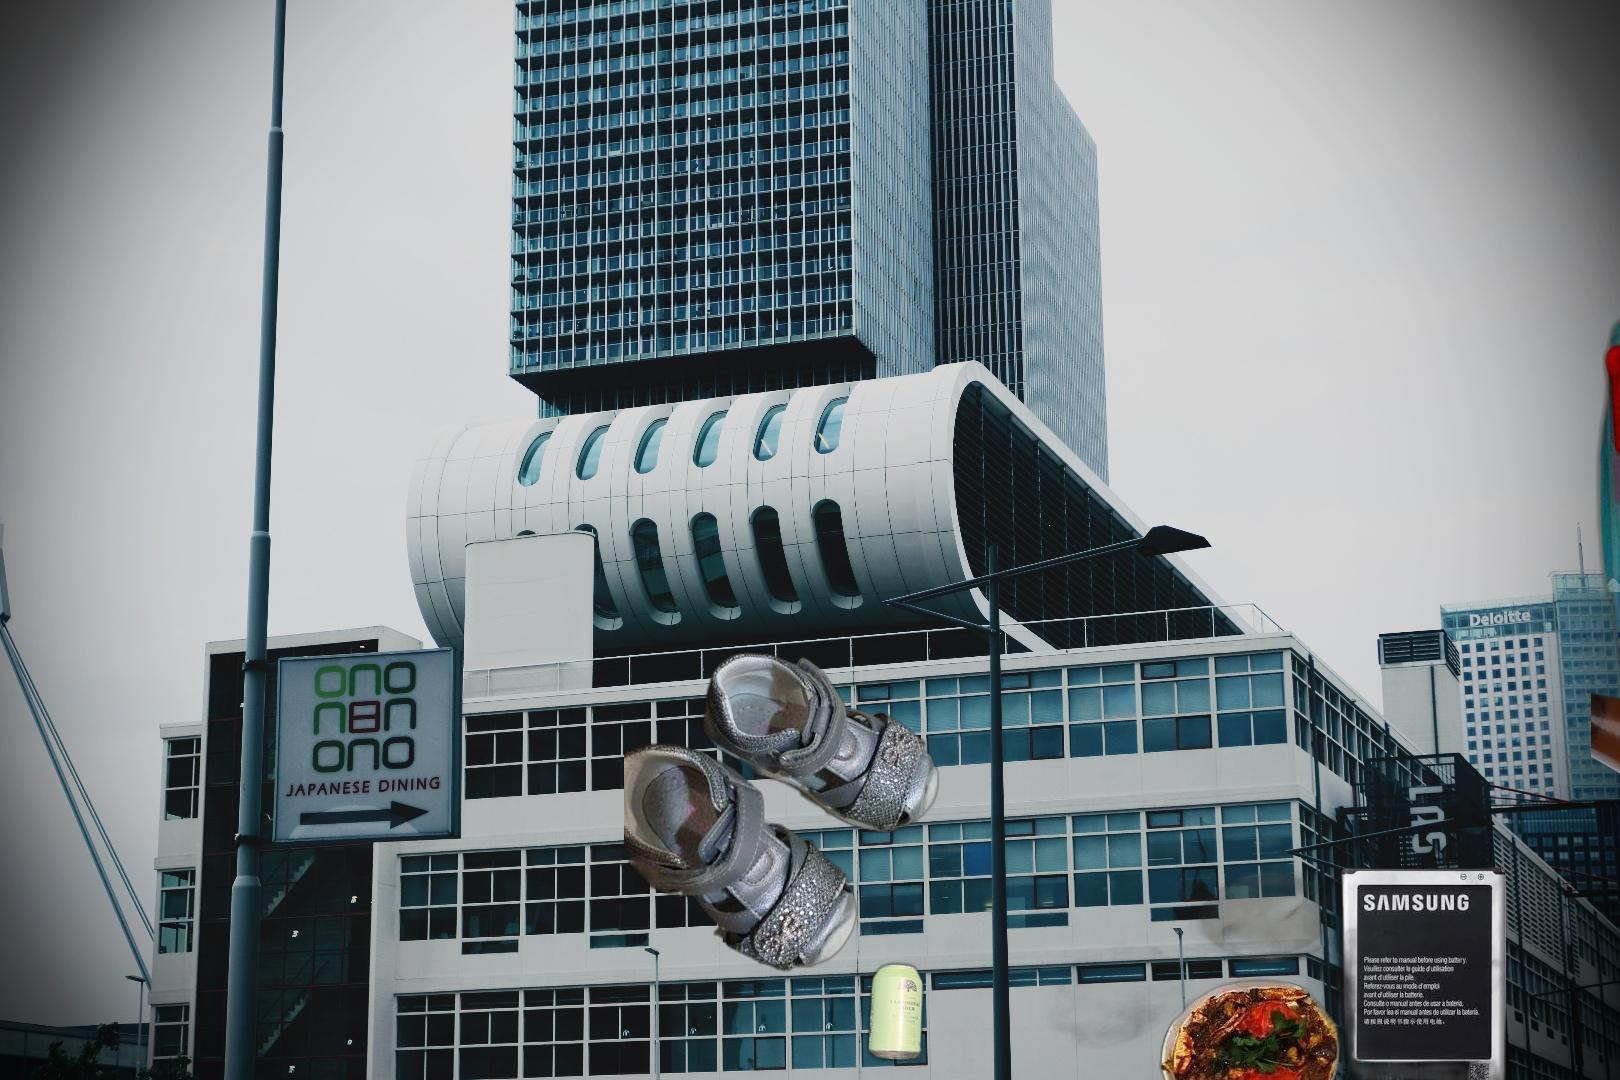battery: (1310, 867, 1509, 1080)
biological: (996, 765, 1581, 1080)
glass: (1591, 679, 1620, 953)
metal-cans: (863, 932, 1003, 1078)
penholder: (1587, 293, 1620, 956)
shoes: (624, 648, 943, 976)
